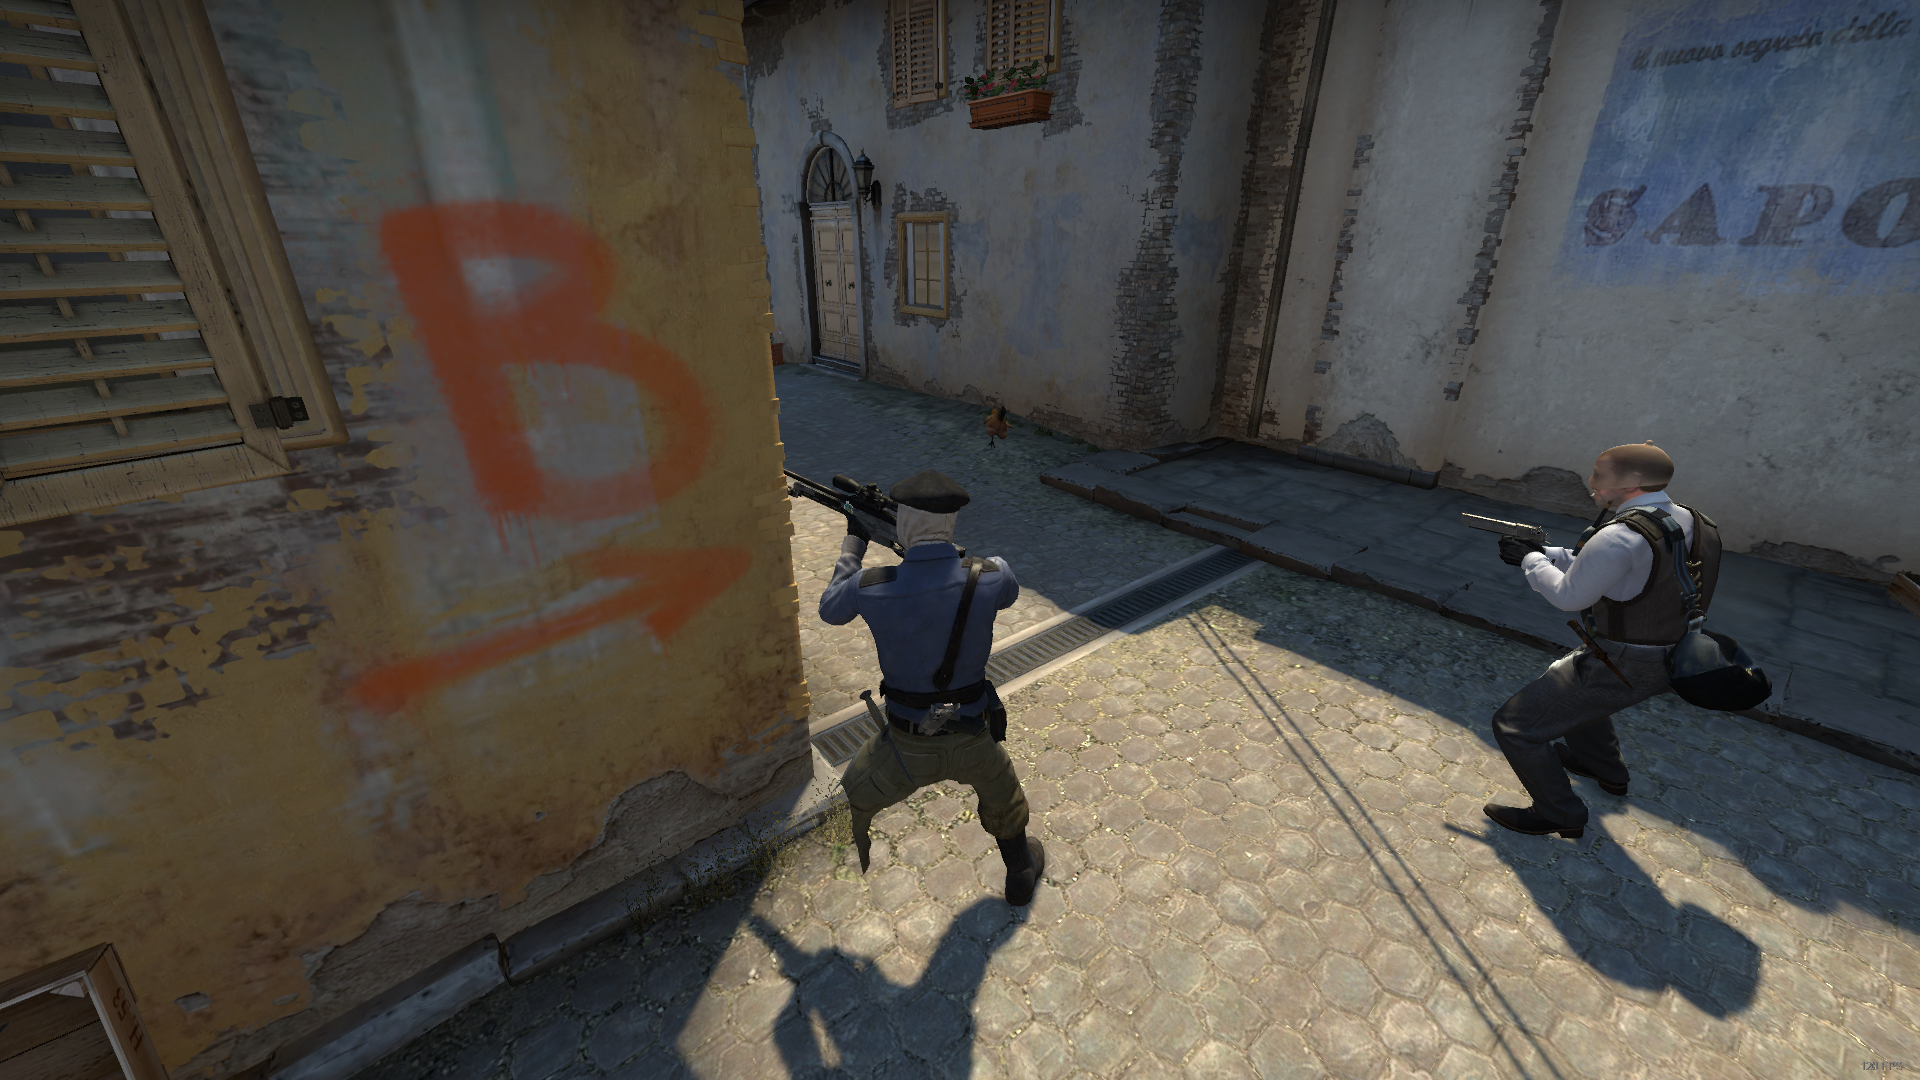t: (827, 469, 1062, 911)
